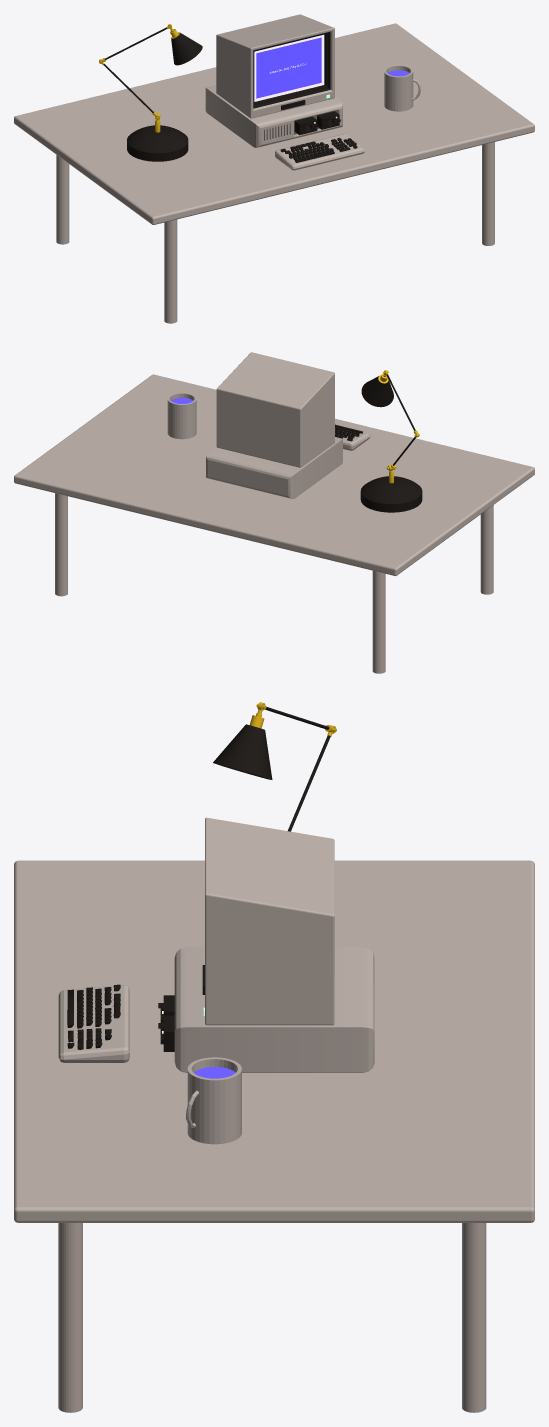
File: computer_desk.gltf
3 views of the same model, one above another, from view 1: azimuth 30°, elevation 25°; view 2: azimuth 150°, elevation 25°; view 3: azimuth 270°, elevation 25° (orthographic). The views are drawn at different scales.
Visible parts, largest first — view 1: table, monitor, Cube.005, Cylinder.004, Circle.002, Circle.004, Cylinder, Cube.002, Circle.001, keyboard, Circle; view 2: table, monitor, Cube.005, Cylinder.004, Circle.001, Circle.003, Cylinder, Circle.002, Circle; view 3: table, monitor, Cube.005, Circle.003, Circle.004, Cylinder, Cube.002, keyboard, Circle.
Boxes of the visible parts, x1,y1,x2,y2 form: table: (14,23,534,224); monitor: (216,14,334,118); Cube.005: (205,85,342,147); Cylinder.004: (127,120,188,161); Circle.002: (164,219,177,323); Circle.004: (482,142,494,245); Cylinder: (384,65,420,111); Cube.002: (275,133,364,170); Circle.001: (56,155,69,244); keyboard: (280,138,357,162); Circle: (170,28,202,65); table: (14,374,534,576); monitor: (216,352,334,467); Cube.005: (206,437,342,498); Cylinder.004: (360,470,422,512); Circle.001: (372,571,385,673); Circle.003: (55,493,67,596); Cylinder: (167,392,196,439); Circle.002: (480,505,493,594); Circle: (361,373,393,407); table: (14,860,534,1222); monitor: (205,817,334,1025); Cube.005: (174,947,374,1072); Circle.003: (462,1223,486,1412); Circle.004: (58,1223,82,1412); Cylinder: (186,1057,241,1144); Cube.002: (58,985,129,1062); keyboard: (67,984,120,1049); Circle: (213,709,272,779).
Size of the model in its own units: 2.04 by 1.26 by 1.29.
